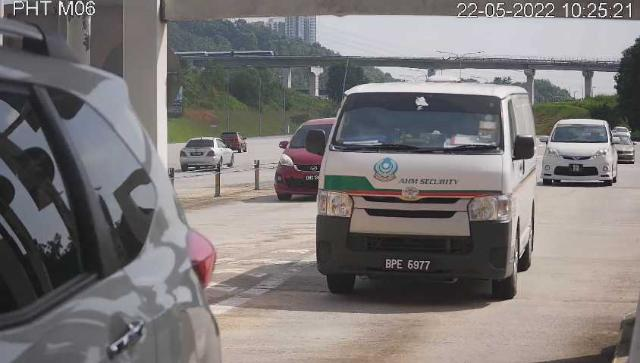License_Plate: (382, 257, 435, 277)
van: (319, 84, 538, 300)
